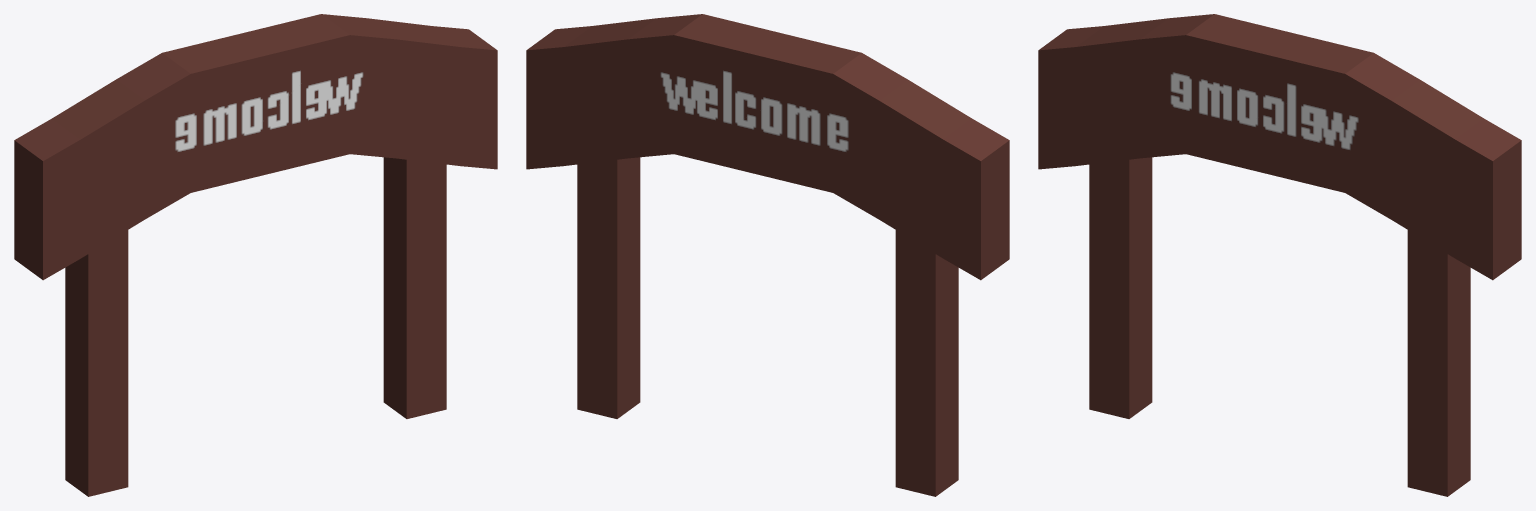
Rendered from WelcomeBoard.obj.
3 renders of one model, left to right at view 1: azimuth 30°, elevation 25°; view 2: azimuth 150°, elevation 25°; view 3: azimuth 330°, elevation 25°, orthographic.
Parts seen in each view (by area): view 1: Cube.002; view 2: Cube.002; view 3: Cube.002.
Part boxes in pixels (x1,y1,x2,y2): Cube.002: (14, 14, 497, 496); Cube.002: (526, 14, 1009, 496); Cube.002: (1038, 14, 1521, 496).
Bounding box in the file's own units: 5.71 × 4.81 × 0.6266.
